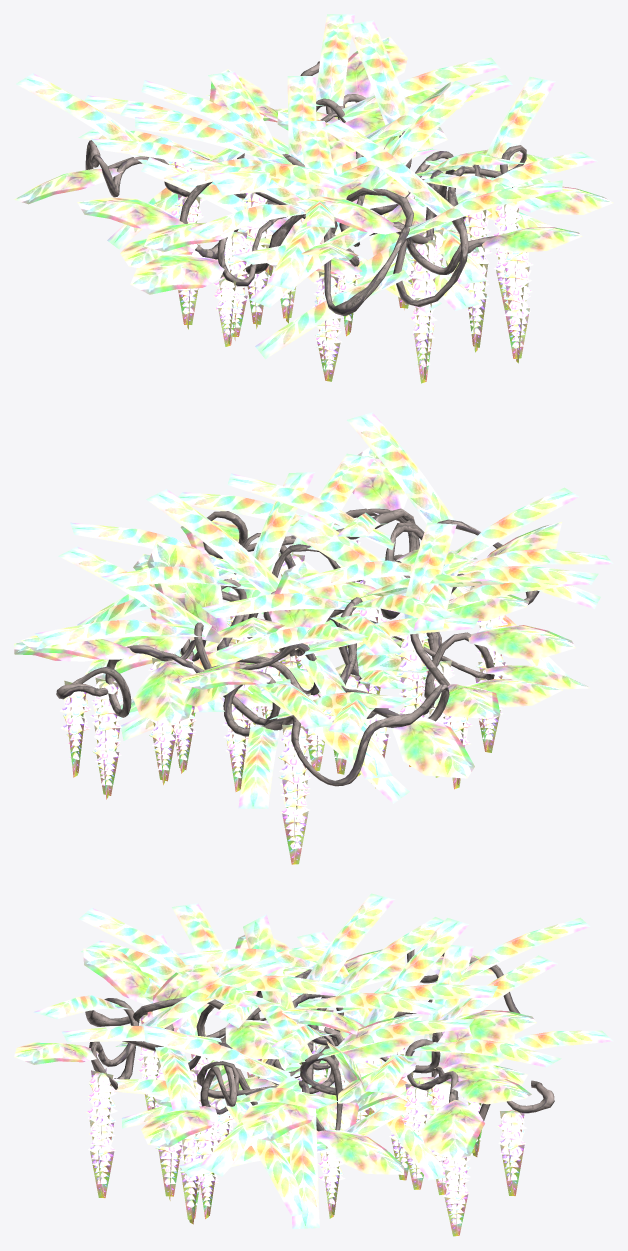
The model's file is wysteria_big_SM.fbx.
3 renders of one model, top to bottom at view 1: azimuth 30°, elevation 25°; view 2: azimuth 150°, elevation 25°; view 3: azimuth 270°, elevation 25°, orthographic. The views are drawn at different scales.
Parts seen in each view (by area): view 1: wysteria_big_SM_LOD0; view 2: wysteria_big_SM_LOD0; view 3: wysteria_big_SM_LOD0.
Part boxes in pixels (box(x1,y1,x2,y2)): wysteria_big_SM_LOD0: box(14, 14, 613, 383); wysteria_big_SM_LOD0: box(14, 412, 613, 864); wysteria_big_SM_LOD0: box(14, 893, 613, 1236).
Bounding box in the file's own units: 720 × 821 × 359.
3 materials, 3 textured.
